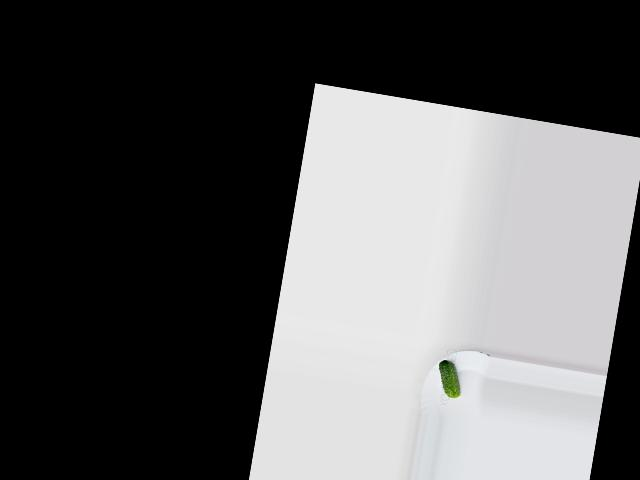cucumber: (434, 359, 465, 399)
